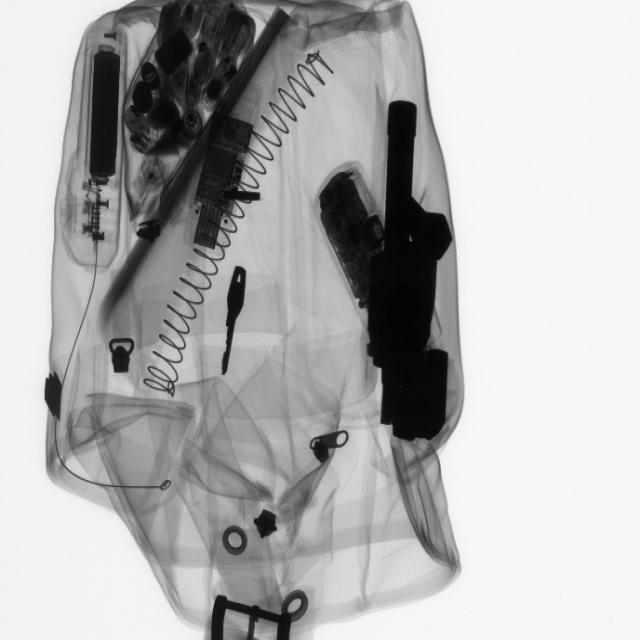GUN: (366, 83, 460, 449)
